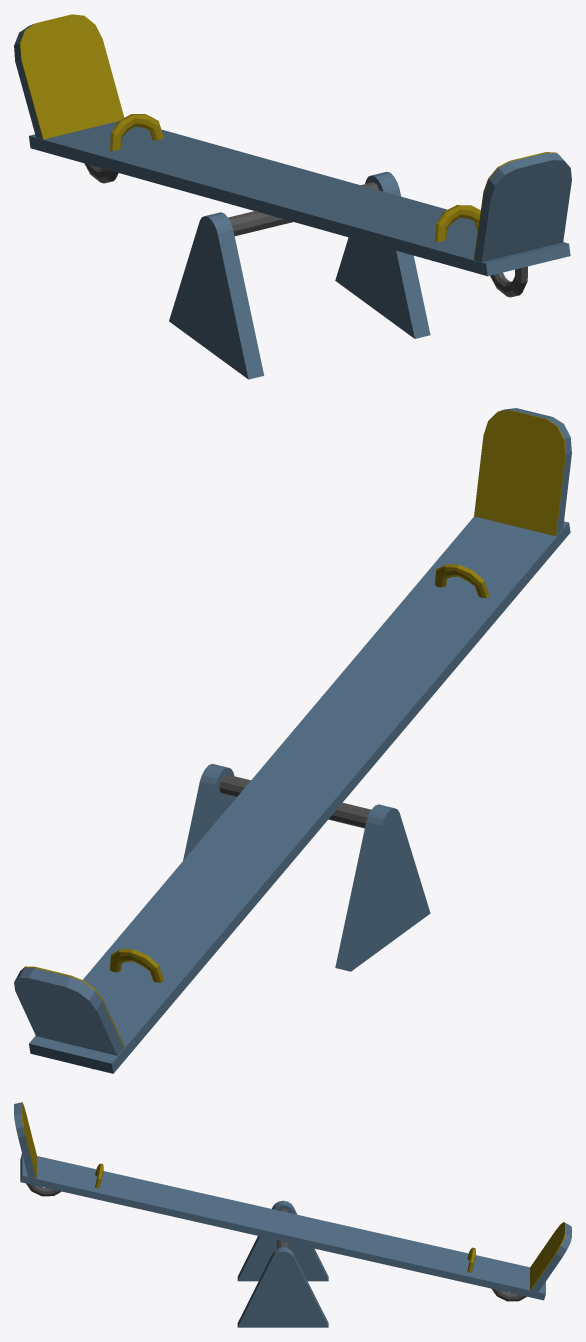
Rendered from SwingV2.fbx.
3 views of the same model, one above another, from view 1: azimuth 30°, elevation 25°; view 2: azimuth 150°, elevation 25°; view 3: azimuth 270°, elevation 25° (orthographic). The views are drawn at different scales.
Parts seen in each view (by area): view 1: Cube.002, Cube.004, Cube, Cube.003, Cube.001, Cylinder, Torus.003, Torus.002, Torus.001; view 2: Cube.002, Cube.003, Cube, Cube.004, Cube.001, Cylinder, Torus.003, Torus.002; view 3: Cube.002, Cube.001, Cube, Cube.004, Cube.003.
Part boxes in pixels (<box>): Cube.002: <box>29,121,570,276</box>; Cube.004: <box>14,14,124,139</box>; Cube: <box>169,212,264,379</box>; Cube.003: <box>474,152,571,262</box>; Cube.001: <box>335,171,430,338</box>; Cylinder: <box>228,182,378,236</box>; Torus.003: <box>109,114,163,150</box>; Torus.002: <box>435,205,480,241</box>; Torus.001: <box>490,266,527,297</box>; Cube.002: <box>29,516,570,1073</box>; Cube.003: <box>474,408,571,535</box>; Cube: <box>335,804,430,971</box>; Cube.004: <box>14,966,124,1055</box>; Cube.001: <box>183,764,236,860</box>; Cylinder: <box>219,774,370,828</box>; Torus.003: <box>109,949,163,982</box>; Torus.002: <box>435,564,488,597</box>; Cube.002: <box>20,1153,545,1300</box>; Cube.001: <box>237,1247,328,1327</box>; Cube: <box>237,1200,328,1281</box>; Cube.004: <box>530,1222,571,1291</box>; Cube.003: <box>14,1102,36,1178</box>.
Size of the model in its own units: 76.61 by 136 by 355.
